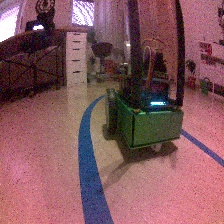rob: (103, 46, 184, 153)
